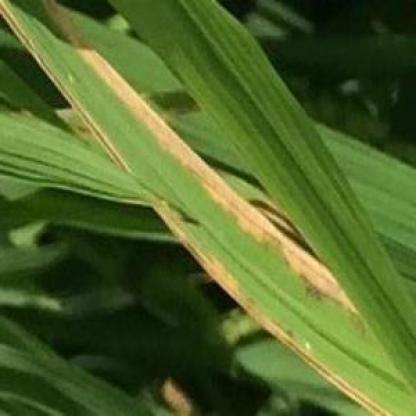Blight: (43, 2, 370, 327)
